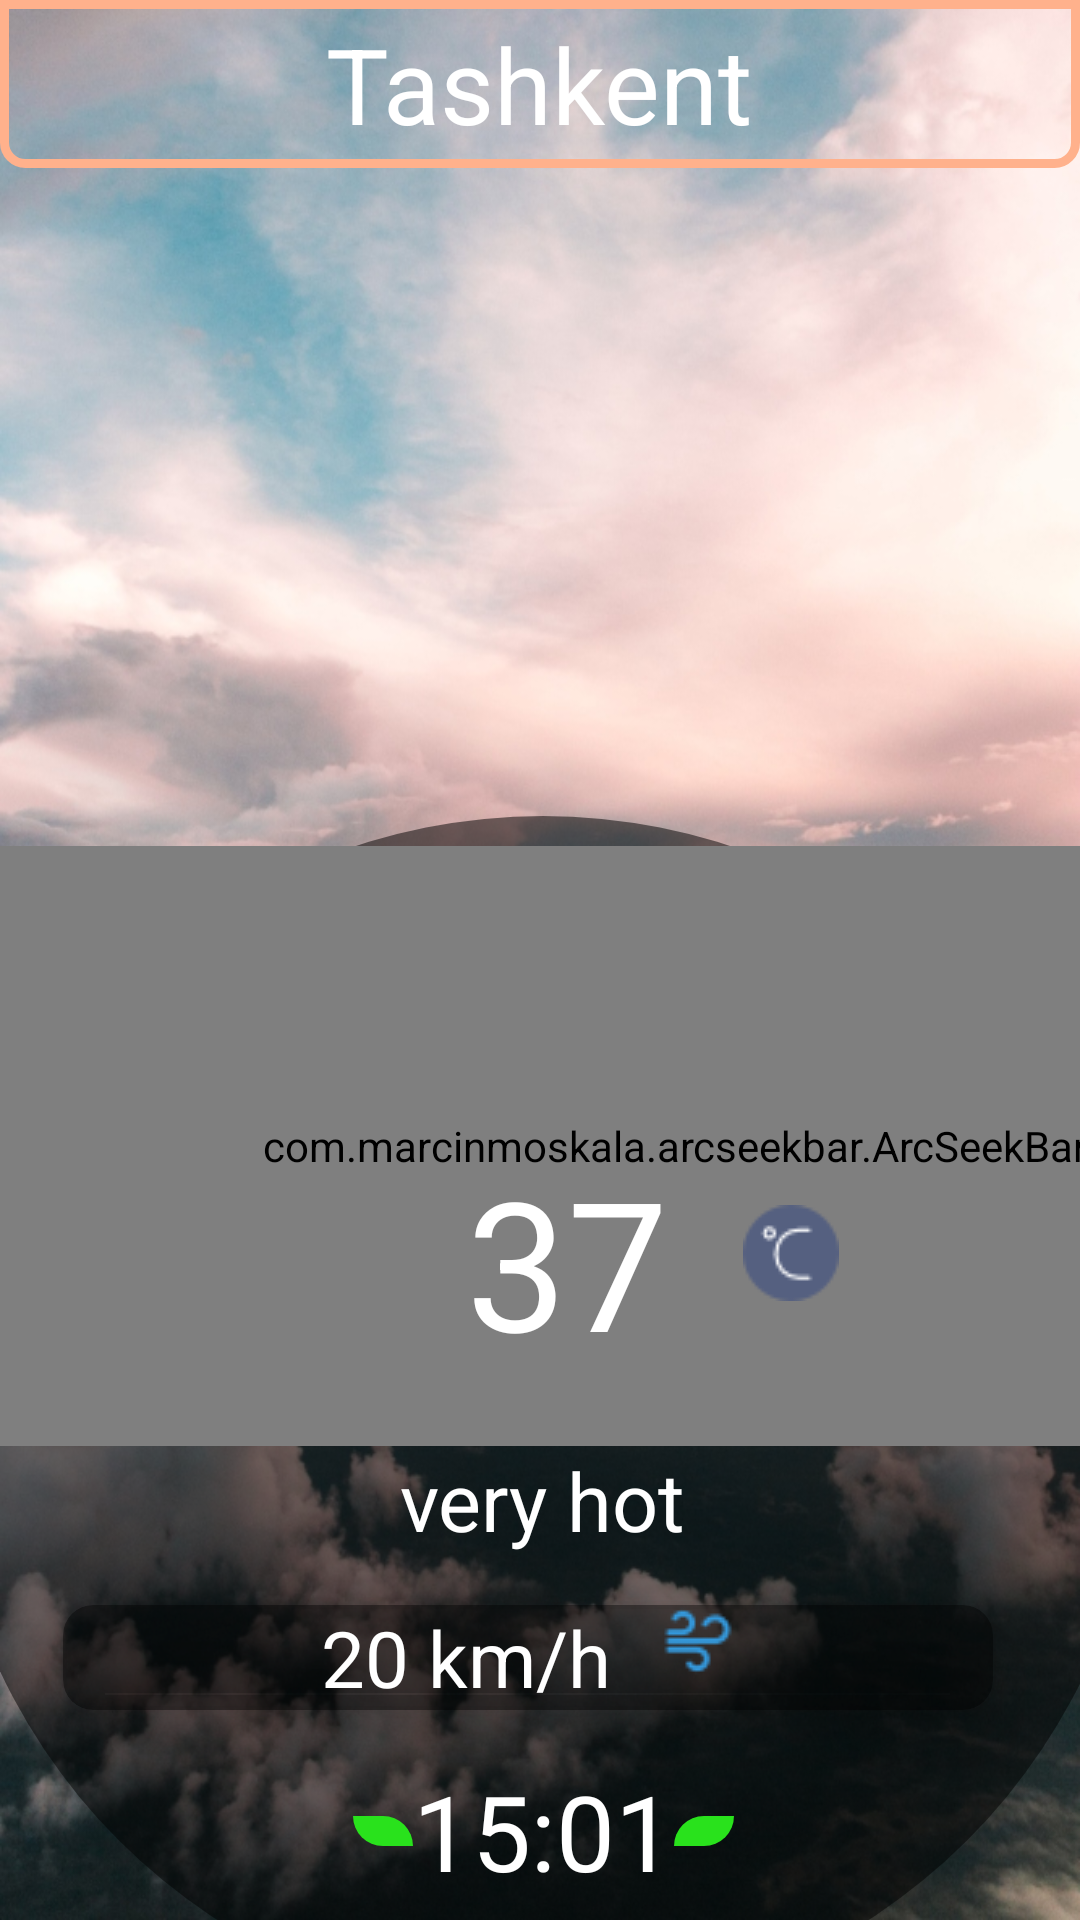

Named icons in this screenshot (1080x1920) and their bounding boxes, region(x1, y1, x2, y2):
celsius: region(743, 1205, 839, 1301)
wind: region(662, 1605, 732, 1672)
